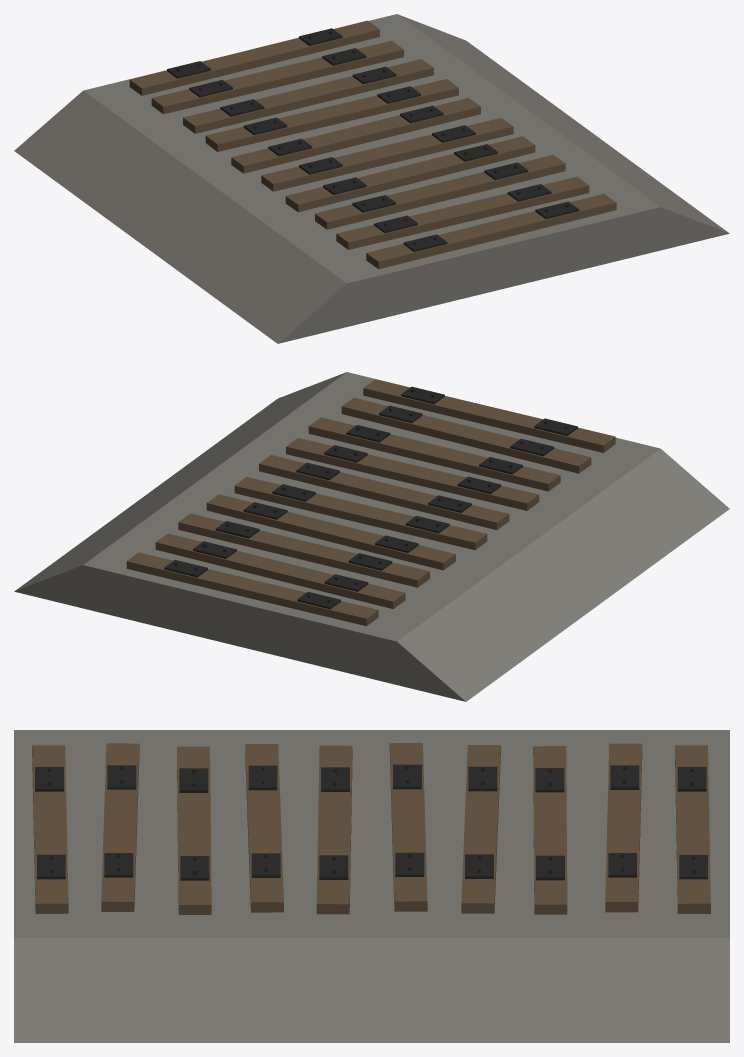
The model's file is tie_section_ballast.glb.
3 views of the same model, one above another, from view 1: azimuth 30°, elevation 25°; view 2: azimuth 150°, elevation 25°; view 3: azimuth 270°, elevation 25° (orthographic). The views are drawn at different scales.
Visible parts, largest first — view 1: Fixed_Ballast, Fixed_Wood, Fixed_Black; view 2: Fixed_Ballast, Fixed_Wood, Fixed_Black; view 3: Fixed_Ballast, Fixed_Wood, Fixed_Black.
Boxes of the visible parts, x1=… form: Fixed_Ballast: x1=14, y1=14, x2=729, y2=343; Fixed_Wood: x1=129, y1=20, x2=616, y2=269; Fixed_Black: x1=167, y1=28, x2=579, y2=251; Fixed_Ballast: x1=14, y1=372, x2=729, y2=701; Fixed_Wood: x1=126, y1=379, x2=615, y2=626; Fixed_Black: x1=164, y1=386, x2=577, y2=609; Fixed_Ballast: x1=14, y1=730, x2=729, y2=1042; Fixed_Wood: x1=32, y1=743, x2=710, y2=914; Fixed_Black: x1=35, y1=764, x2=707, y2=880.
Bounding box in the file's own units: 4.9 × 0.5728 × 4.95.
